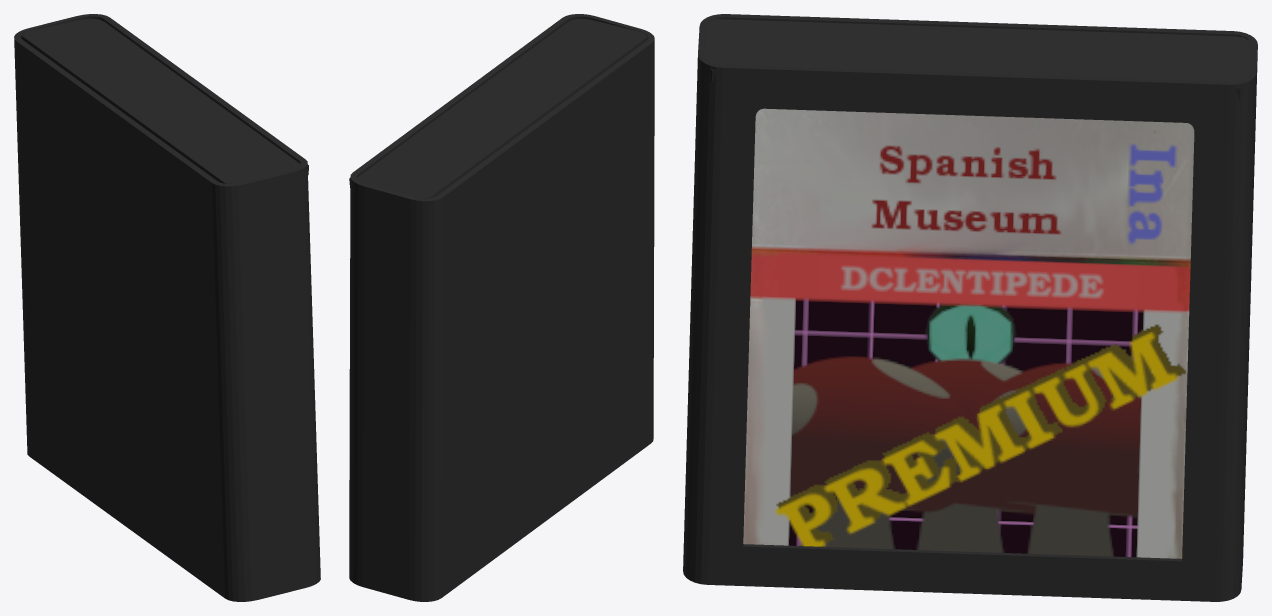
Rendered from cartucho_p.glb.
3 views of the same model, side by side, from view 1: azimuth 30°, elevation 25°; view 2: azimuth 150°, elevation 25°; view 3: azimuth 270°, elevation 25° (orthographic). The views are drawn at different scales.
Parts seen in each view (by area): view 1: cartridge.002_Cube.011, cartridge.003_Cube.012; view 2: cartridge.002_Cube.011, cartridge.003_Cube.012; view 3: cartridge.002_Cube.011, cartridge.003_Cube.012.
Boxes of the visible parts, x1,y1,x2,y2 form: cartridge.002_Cube.011: (14,14,320,601); cartridge.003_Cube.012: (21,18,308,183); cartridge.002_Cube.011: (349,14,654,601); cartridge.003_Cube.012: (349,19,647,198); cartridge.002_Cube.011: (683,14,1257,601); cartridge.003_Cube.012: (704,19,1251,99).
Bounding box in the file's own units: 0.3056 × 1.15 × 1.13.
Materials: 4 (1 with a texture image).
